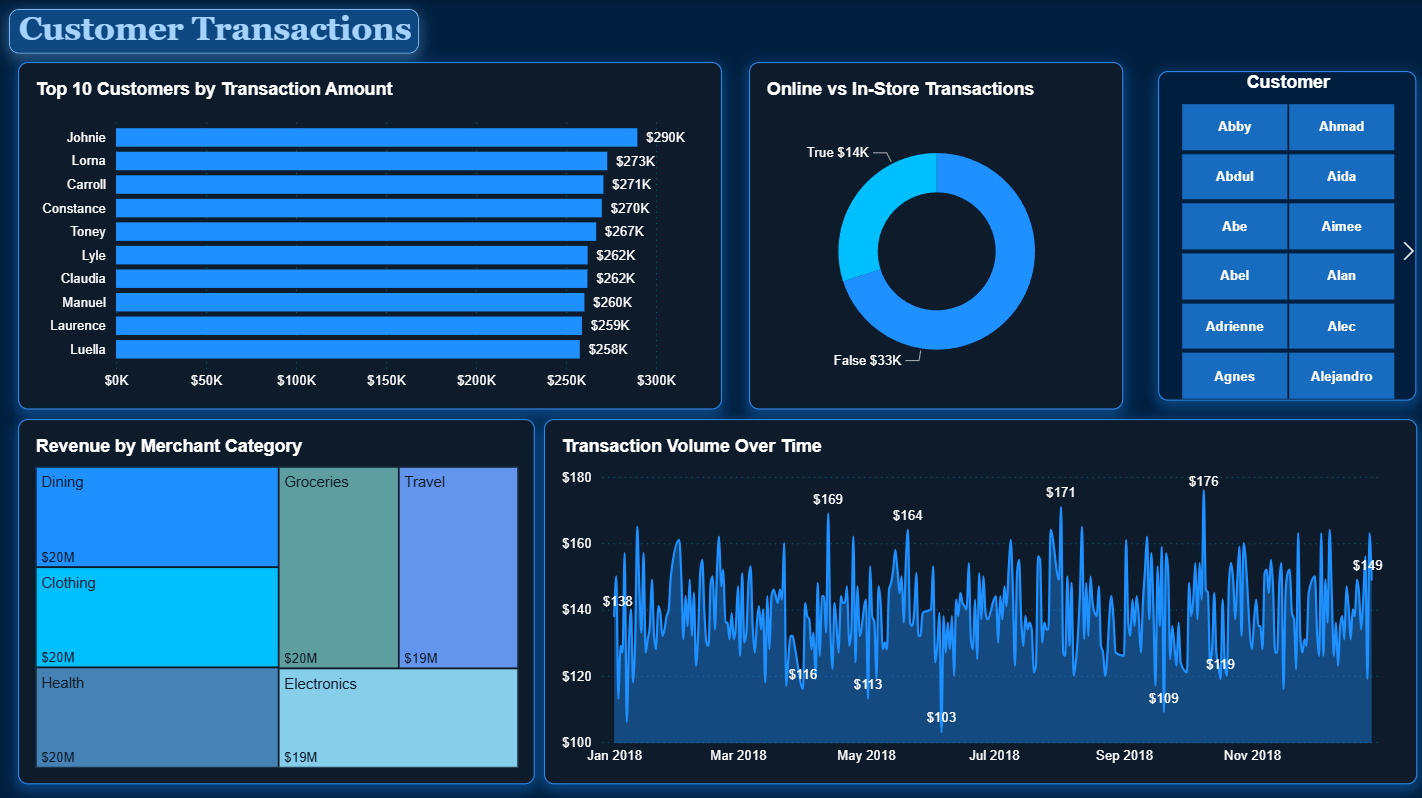

The dashboard page shown, as its layout file describes it:
{"tool":"powerbi","page":{"name":"Customer Transactions ","canvas":[1280,720],"ordinal":1},"visuals":[{"type":"textbox","title":"Customer Transactions","box":[8,8,368,40],"z":0},{"type":"clusteredBarChart","title":"Top 10 Customers by Transaction Amount","fields":{"Category":["customers.FirstName"],"Y":["transactions.Total Revenue"]},"box":[16,56,632,312],"z":1000},{"type":"donutChart","title":"Online vs In-Store Transactions","fields":{"Category":["transactions.IsOnline"],"Y":["transactions.Total Transactions"]},"box":[672,56,336,312],"z":2000},{"type":"treemap","title":"Revenue by Merchant Category","fields":{"Group":["transactions.MerchantCategory"],"Values":["transactions.Total Revenue"]},"box":[16,376,464,328],"z":3000},{"type":"slicer","title":"Customer","fields":{"Values":["customers.FirstName"]},"box":[1040,64,232,296],"z":4000},{"type":"lineChart","title":"Transaction Volume Over Time","fields":{"Y":["transactions.Total Transactions"],"Category":["Calendar.Date"]},"box":[488,376,784,328],"z":6000}]}

Visuals, with their boxes in screenshot pixels (x1, y1, x2, y2), scaled from the page's 1280x720 canvas onto the 1422x798 screenshot:
"Customer Transactions" textbox: select_region(9, 9, 418, 53)
"Top 10 Customers by Transaction Amount" clusteredBarChart: select_region(18, 62, 720, 408)
"Online vs In-Store Transactions" donutChart: select_region(747, 62, 1120, 408)
"Revenue by Merchant Category" treemap: select_region(18, 417, 533, 780)
"Customer" slicer: select_region(1155, 71, 1413, 399)
"Transaction Volume Over Time" lineChart: select_region(542, 417, 1413, 780)
